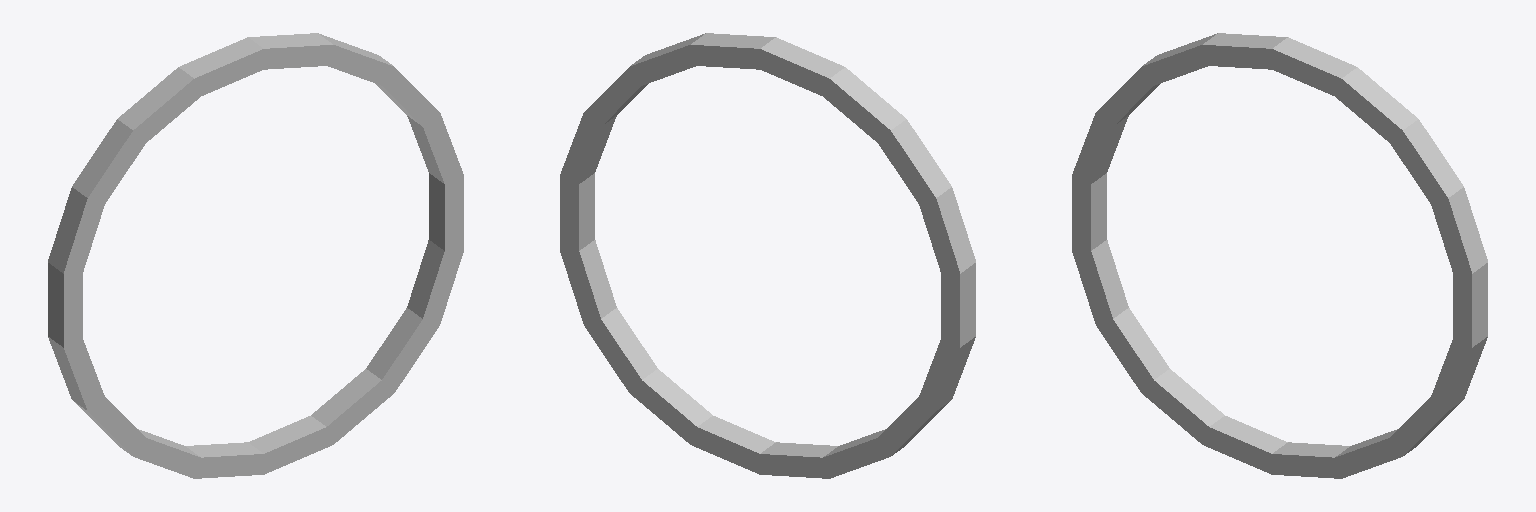
File: ring_temp.obj
3 renders of one model, left to right at view 1: azimuth 30°, elevation 25°; view 2: azimuth 150°, elevation 25°; view 3: azimuth 330°, elevation 25°, orthographic.
Parts seen in each view (by area): view 1: Tube001; view 2: Tube001; view 3: Tube001.
Part boxes in pixels (x1,y1,x2,y2): Tube001: (48, 33, 463, 478); Tube001: (560, 33, 975, 478); Tube001: (1072, 33, 1487, 478).
Bounding box in the file's own units: 2.46 × 2.5 × 0.1691.